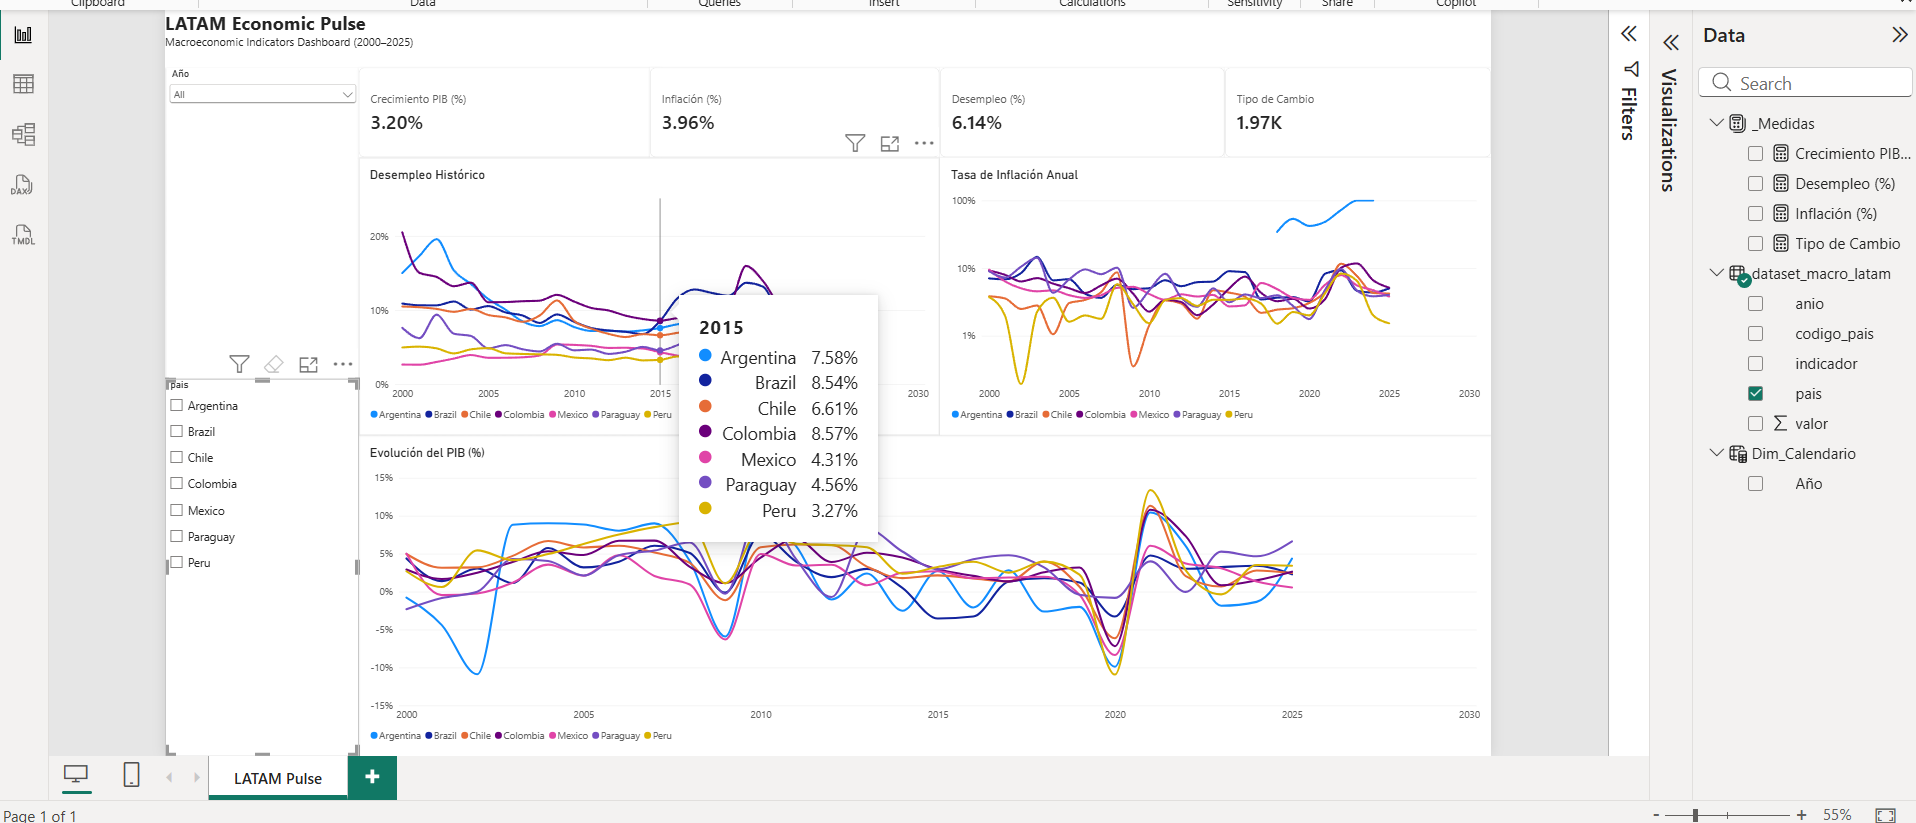

The dashboard page shown, as its layout file describes it:
{"tool":"powerbi","page":{"name":"LATAM Pulse","canvas":[1920,1080],"ordinal":0},"visuals":[{"type":"slicer","fields":{"Values":["dataset_macro_latam.pais"]},"box":[0,533.8,280.5,546.5],"z":0},{"type":"slicer","title":"YEAR","fields":{"Values":["Dim_Calendario.Año"]},"box":[1.8,83.2,280.5,450.6],"z":1},{"type":"lineChart","title":"Evolución del PIB (%)","fields":{"Category":["Dim_Calendario.Año"],"Y":["_Medidas.Crecimiento PIB (%)"],"Series":["dataset_macro_latam.pais"]},"box":[280.5,615.3,1639.6,465.1],"z":6},{"type":"textbox","box":[0,0,1920.1,83.2],"z":7},{"type":"cardVisual","fields":{"Data":["_Medidas.Crecimiento PIB (%)"]},"box":[280.5,83.2,437.9,130.3],"z":8},{"type":"cardVisual","fields":{"Data":["_Medidas.Inflación (%)"]},"box":[702.1,83.2,419.8,130.3],"z":9},{"type":"cardVisual","fields":{"Data":["_Medidas.Desempleo (%)"]},"box":[1122,83.2,412.6,130.3],"z":10},{"type":"cardVisual","fields":{"Data":["_Medidas.Tipo de Cambio"]},"box":[1534.6,83.2,385.5,130.3],"z":11},{"type":"lineChart","title":"Desempleo Histórico","fields":{"Category":["Dim_Calendario.Año"],"Series":["dataset_macro_latam.pais"],"Y":["_Medidas.Desempleo (%)"]},"box":[280.5,213.5,841.5,401.7],"z":12},{"type":"lineChart","title":"Tasa de Inflación Anual","fields":{"Category":["Dim_Calendario.Año"],"Series":["dataset_macro_latam.pais"],"Y":["_Medidas.Inflación (%)"]},"box":[1122,213.5,798.1,401.7],"z":13}]}

Visuals, with their boxes on the page's 1920x1080 design canvas (x1, y1, x2, y2). These are canvas units, not pixel positions in the 1916x823 screenshot, which may show the page scaled, cropped or inside an application window:
slicer - dataset_macro_latam.pais: <bbox>0, 534, 280, 1080</bbox>
"YEAR" slicer: <bbox>2, 83, 282, 534</bbox>
"Evolución del PIB (%)" lineChart: <bbox>280, 615, 1920, 1080</bbox>
textbox: <bbox>0, 0, 1920, 83</bbox>
cardVisual - _Medidas.Crecimiento PIB (%): <bbox>280, 83, 718, 214</bbox>
cardVisual - _Medidas.Inflación (%): <bbox>702, 83, 1122, 214</bbox>
cardVisual - _Medidas.Desempleo (%): <bbox>1122, 83, 1535, 214</bbox>
cardVisual - _Medidas.Tipo de Cambio: <bbox>1535, 83, 1920, 214</bbox>
"Desempleo Histórico" lineChart: <bbox>280, 214, 1122, 615</bbox>
"Tasa de Inflación Anual" lineChart: <bbox>1122, 214, 1920, 615</bbox>
